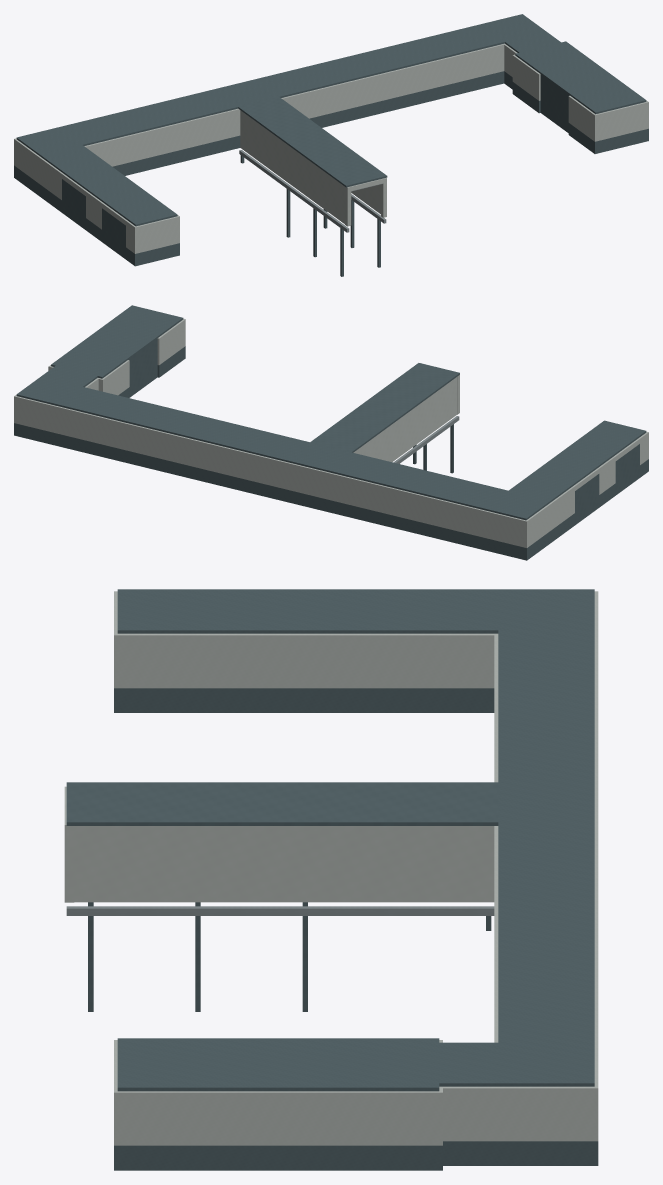
The model's file is AST-RES-TIDAL_D15_service_receiving_r001.glb.
3 views of the same model, one above another, from view 1: azimuth 30°, elevation 25°; view 2: azimuth 150°, elevation 25°; view 3: azimuth 270°, elevation 25° (orthographic). The views are drawn at different scales.
Parts seen in each view (by area): view 1: D15_LinkRoof, D15_LinkWall_West, TidalStaffRoof_D15_-3_-62_0, TidalStaffRoof_D15_-8_-63_0, TidalStaffWallHigh_D15_-7_-63_0, TidalStaffWallHigh_D15_-4_-63_0, TidalStaffWallHigh_D15_-5_-63_0, TidalStaffRoof_D15_-7_-63_0, TidalStaffRoof_D15_-5_-63_0, TidalStaffRoof_D15_-4_-63_0, TidalStaffRoof_D15_-6_-63_0, TidalStaffRoof_D15_-8_-62_0 (+22 smaller); view 2: D15_LinkRoof, TidalStaffWallHigh_D15_-8_-63_1, D15_LinkWall_West, TidalStaffRoof_D15_-3_-62_0, TidalStaffRoof_D15_-8_-63_0, screen_wall_staff_white_paint_D15_-6_-63, TidalStaffWallHigh_D15_-4_-63_1, TidalStaffWallHigh_D15_-7_-63_1, TidalStaffWallHigh_D15_-5_-63_1, TidalStaffRoof_D15_-4_-63_0, TidalStaffRoof_D15_-7_-63_0, TidalStaffRoof_D15_-6_-63_0 (+20 smaller); view 3: D15_LinkWall_East, D15_LinkRoof, TidalStaffWallHigh_D15_-8_-62_0, TidalStaffWallHigh_D15_-3_-62_1, TidalStaffRoof_D15_-3_-62_0, TidalStaffRoof_D15_-8_-63_0, TidalStaffRoof_D15_-8_-62_0, TidalStaffWallHigh_D15_-3_-63_1, TidalStaffRoof_D15_-5_-63_0, TidalStaffRoof_D15_-7_-63_0, TidalStaffRoof_D15_-6_-63_0, TidalStaffRoof_D15_-4_-63_0 (+13 smaller).
Part boxes in pixels (x1,y1,x2,y2): D15_LinkRoof: [238, 97, 387, 187]; D15_LinkWall_West: [240, 110, 344, 223]; TidalStaffRoof_D15_-3_-62_0: [515, 41, 619, 92]; TidalStaffRoof_D15_-8_-63_0: [16, 118, 119, 166]; TidalStaffWallHigh_D15_-7_-63_0: [120, 115, 213, 164]; TidalStaffWallHigh_D15_-4_-63_0: [398, 47, 491, 96]; TidalStaffWallHigh_D15_-5_-63_0: [305, 69, 398, 118]; TidalStaffRoof_D15_-7_-63_0: [96, 95, 212, 137]; TidalStaffRoof_D15_-5_-63_0: [281, 50, 397, 91]; TidalStaffRoof_D15_-4_-63_0: [374, 27, 490, 69]; TidalStaffRoof_D15_-6_-63_0: [188, 73, 305, 114]; TidalStaffRoof_D15_-8_-62_0: [55, 156, 150, 206]; D15_LinkRoof: [310, 363, 459, 452]; TidalStaffWallHigh_D15_-8_-63_1: [446, 492, 566, 547]; D15_LinkWall_West: [353, 377, 456, 461]; TidalStaffRoof_D15_-3_-62_0: [51, 325, 155, 378]; TidalStaffRoof_D15_-8_-63_0: [446, 480, 565, 520]; screen_wall_staff_white_paint_D15_-6_-63: [258, 455, 352, 505]; TidalStaffWallHigh_D15_-4_-63_1: [71, 410, 165, 459]; TidalStaffWallHigh_D15_-7_-63_1: [352, 478, 446, 528]; TidalStaffWallHigh_D15_-5_-63_1: [165, 432, 259, 482]; TidalStaffRoof_D15_-4_-63_0: [72, 390, 189, 432]; TidalStaffRoof_D15_-7_-63_0: [353, 458, 470, 500]; TidalStaffRoof_D15_-6_-63_0: [259, 436, 376, 477]; D15_LinkWall_East: [74, 826, 494, 902]; D15_LinkRoof: [66, 782, 498, 825]; TidalStaffWallHigh_D15_-8_-62_0: [225, 633, 439, 688]; TidalStaffWallHigh_D15_-3_-62_1: [225, 1091, 439, 1145]; TidalStaffRoof_D15_-3_-62_0: [225, 1038, 439, 1091]; TidalStaffRoof_D15_-8_-63_0: [439, 589, 594, 666]; TidalStaffRoof_D15_-8_-62_0: [225, 589, 439, 633]; TidalStaffWallHigh_D15_-3_-63_1: [439, 1032, 598, 1145]; TidalStaffRoof_D15_-5_-63_0: [498, 847, 594, 938]; TidalStaffRoof_D15_-7_-63_0: [498, 666, 594, 756]; TidalStaffRoof_D15_-6_-63_0: [498, 757, 594, 847]; TidalStaffRoof_D15_-4_-63_0: [498, 938, 594, 1028].
Size of the model in its own units: 44.28 by 7.84 by 19.92.
4 materials, 4 textured.
